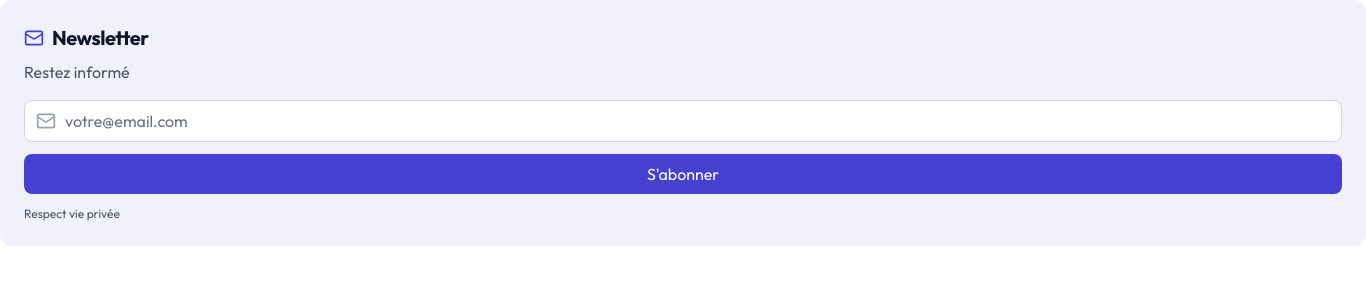
Test case: Newsletter › should show error for invalid email
This screenshot has width=1366, height=295.
In the field with placeholder "votre@email.com": (683, 121) [24,100,1342,142], type "invalid"
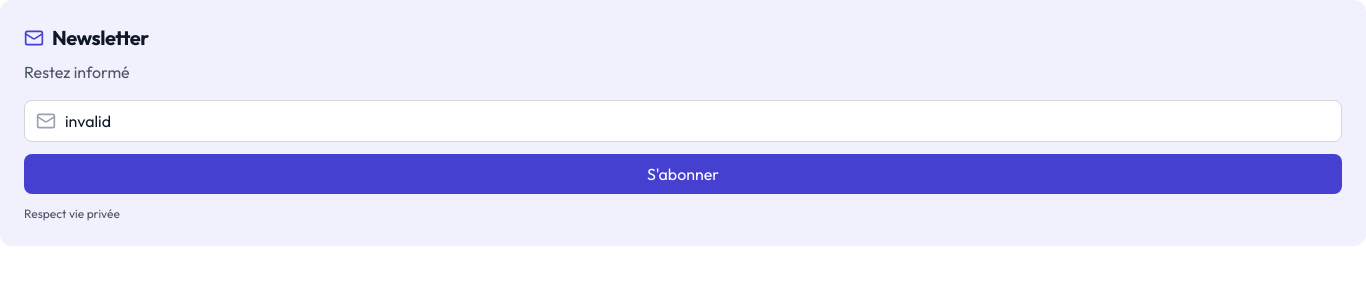
Submit the form with placeholder "votre@email.com", box [24,100,1342,222]
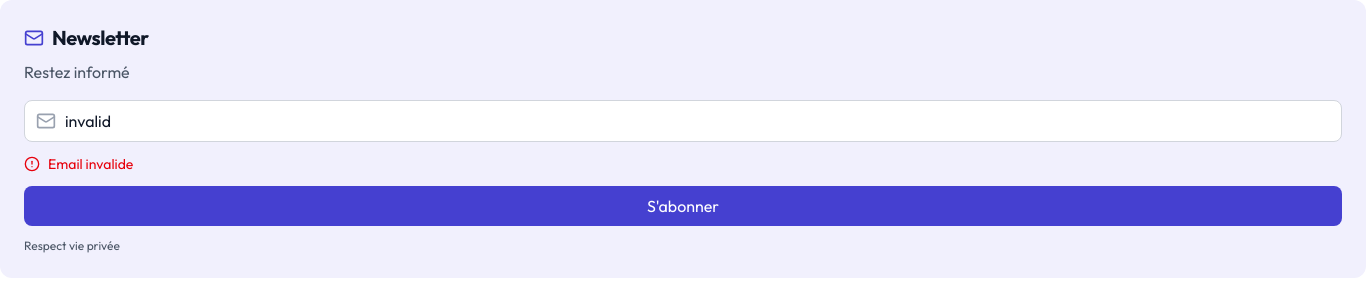
Check: the text "Email invalide" is shown, box [48,154,133,174]
